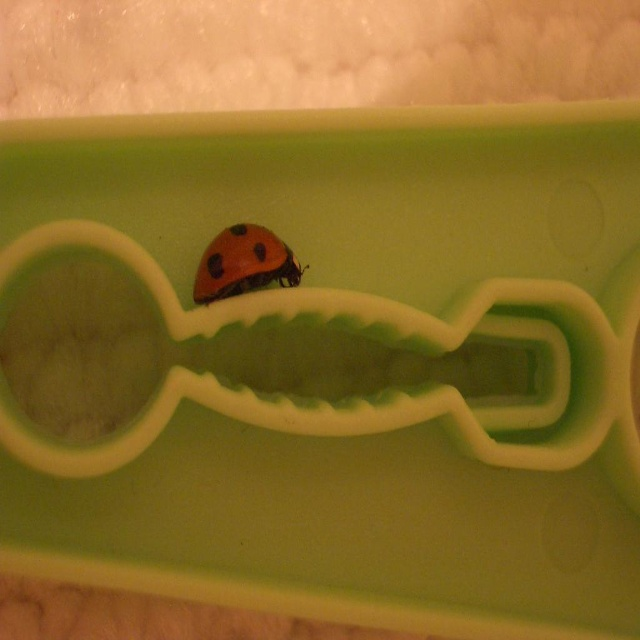Ladybug: (195, 223, 306, 304)
